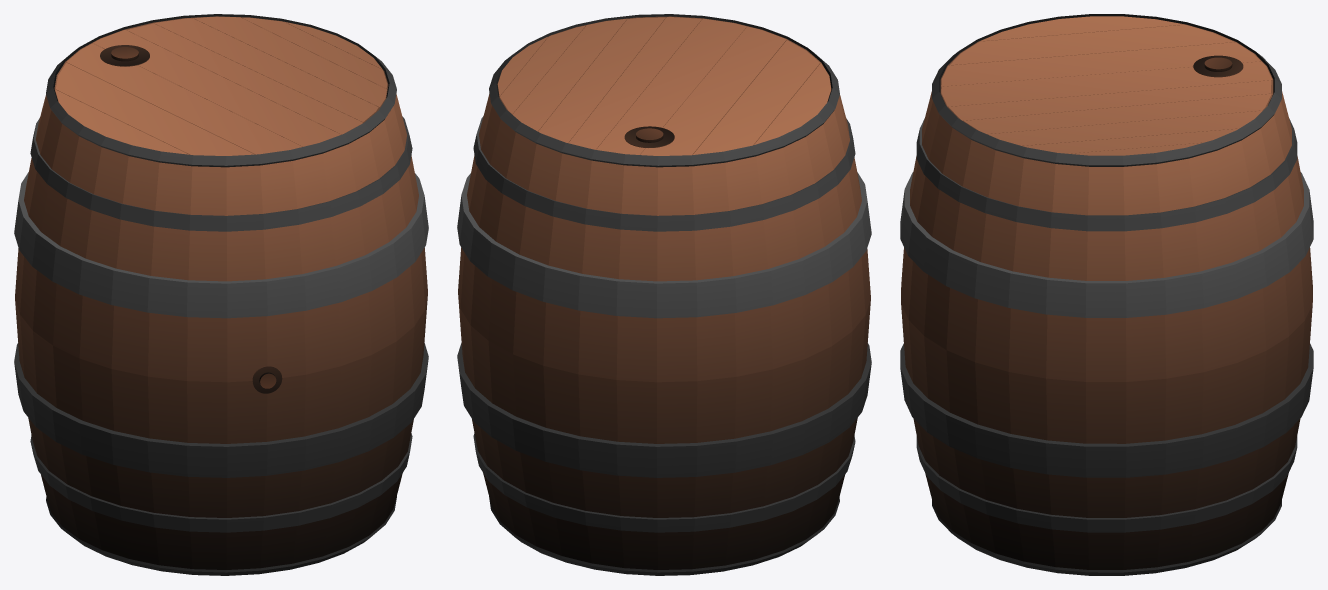
The model's file is Small Med Barrel Closed #2.fbx.
The picture shows the model from 3 angles, left to right: view 1: azimuth 30°, elevation 25°; view 2: azimuth 150°, elevation 25°; view 3: azimuth 270°, elevation 25°; orthographic projection.
Parts seen in each view (by area): view 1: Small Med Barrel Closed #2; view 2: Small Med Barrel Closed #2; view 3: Small Med Barrel Closed #2.
Boxes of the visible parts, <box> form: Small Med Barrel Closed #2: <box>14,14,428,575</box>; Small Med Barrel Closed #2: <box>457,14,871,575</box>; Small Med Barrel Closed #2: <box>900,14,1313,575</box>.
Size of the model in its own units: 272 by 242 by 242.
1 material, 1 textured.
